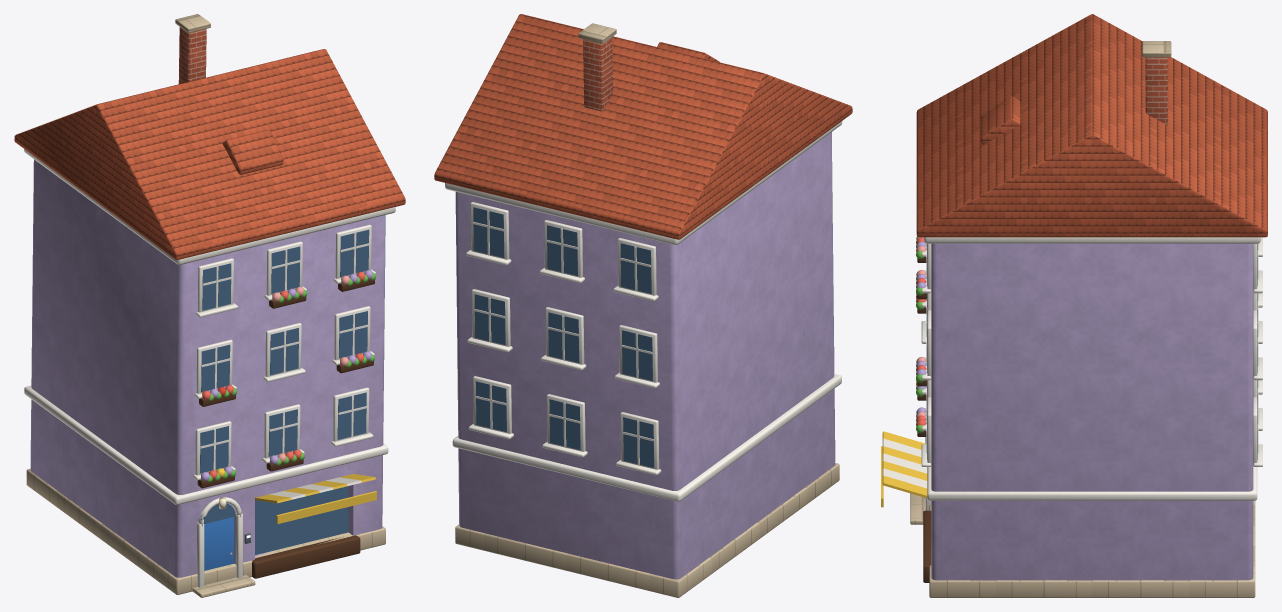
The model's file is house_g.gltf.
The picture shows the model from 3 angles, left to right: view 1: azimuth 30°, elevation 25°; view 2: azimuth 150°, elevation 25°; view 3: azimuth 270°, elevation 25°; orthographic projection. The views are drawn at different scales.
Visible parts, largest first — view 1: house_g_mesh, INT_door_house_g_0; view 2: house_g_mesh; view 3: house_g_mesh.
Part boxes in pixels (x1,y1,x2,y2): house_g_mesh: [14, 14, 405, 597]; INT_door_house_g_0: [204, 517, 234, 570]; house_g_mesh: [434, 14, 852, 597]; house_g_mesh: [881, 14, 1267, 597].
Size of what is drawn, in the model's own units: 8.95 by 17.32 by 12.01.
22 materials, 4 textured.
